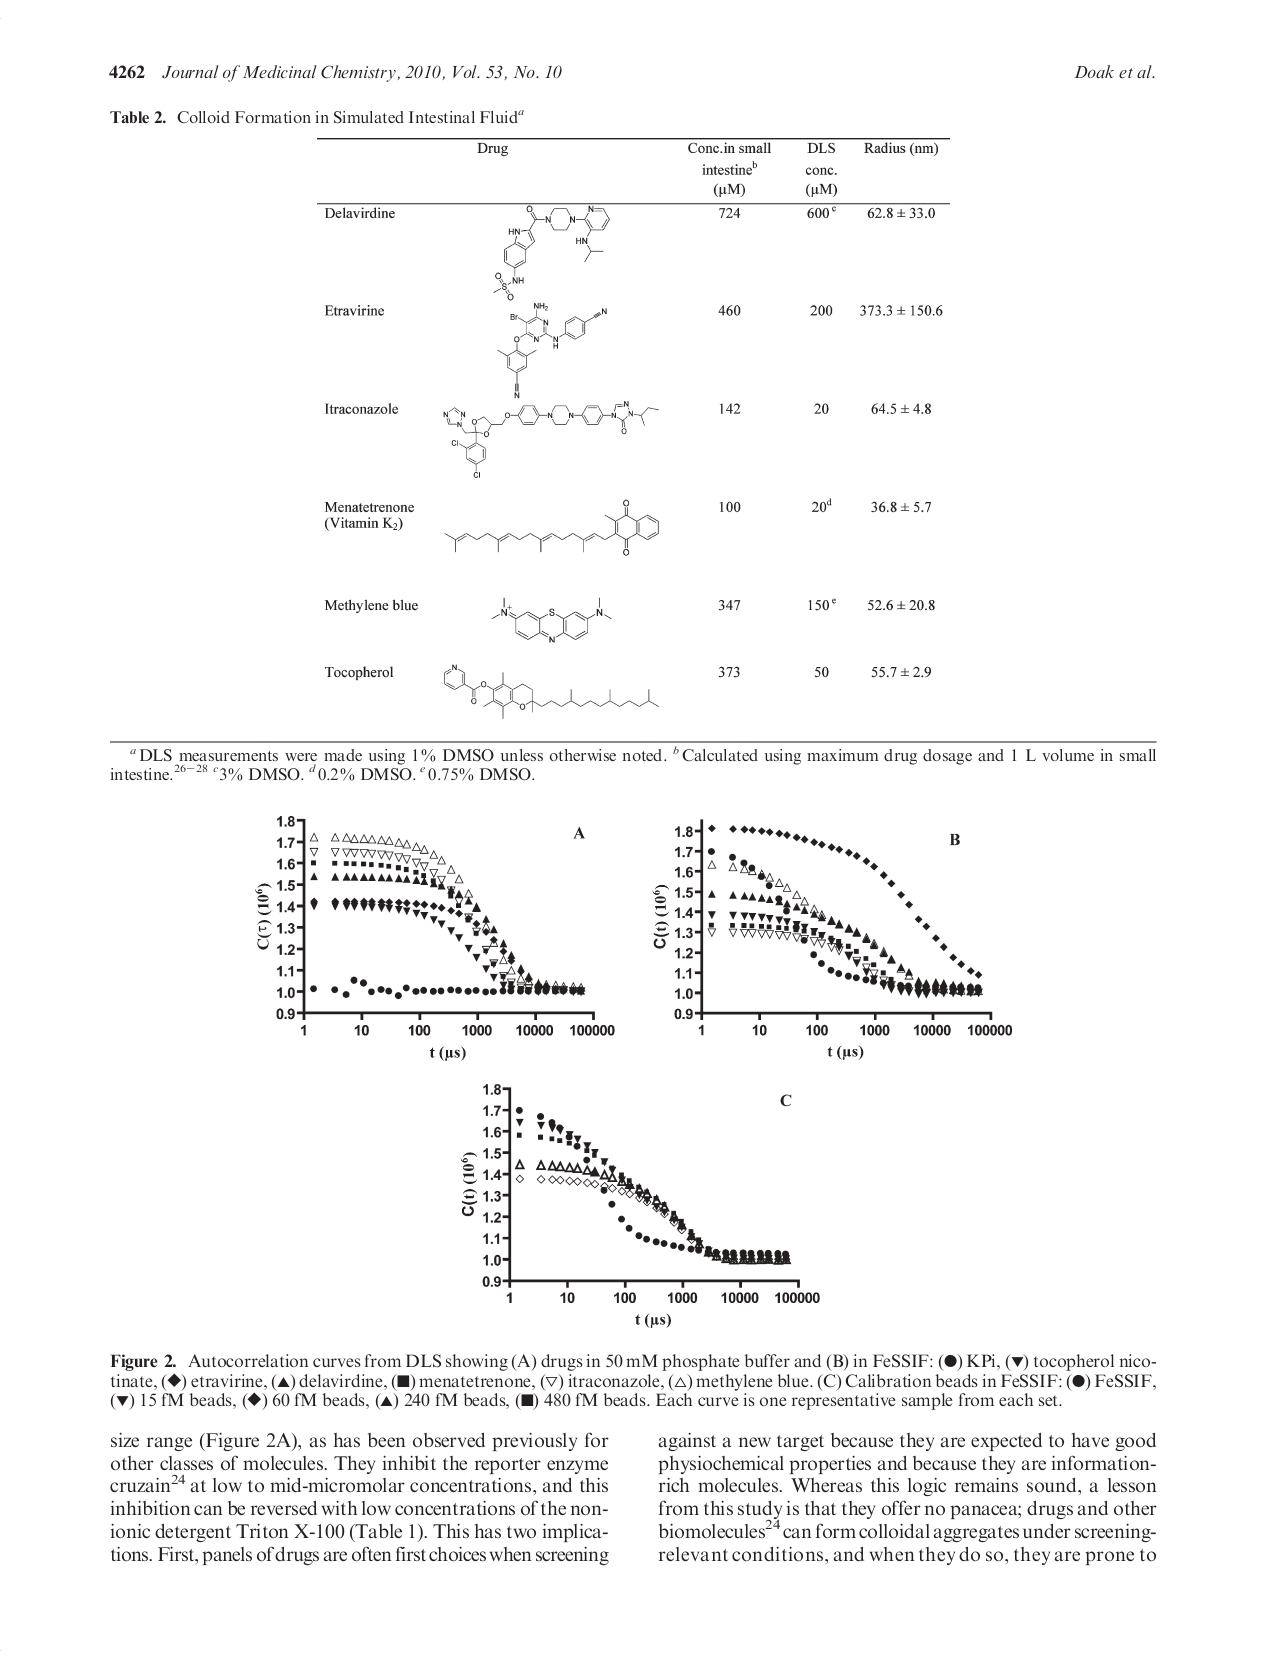exist_molecular: (444, 398, 664, 480), (444, 496, 662, 557), (442, 662, 660, 721), (493, 202, 612, 301), (496, 301, 610, 400), (489, 594, 614, 644)
